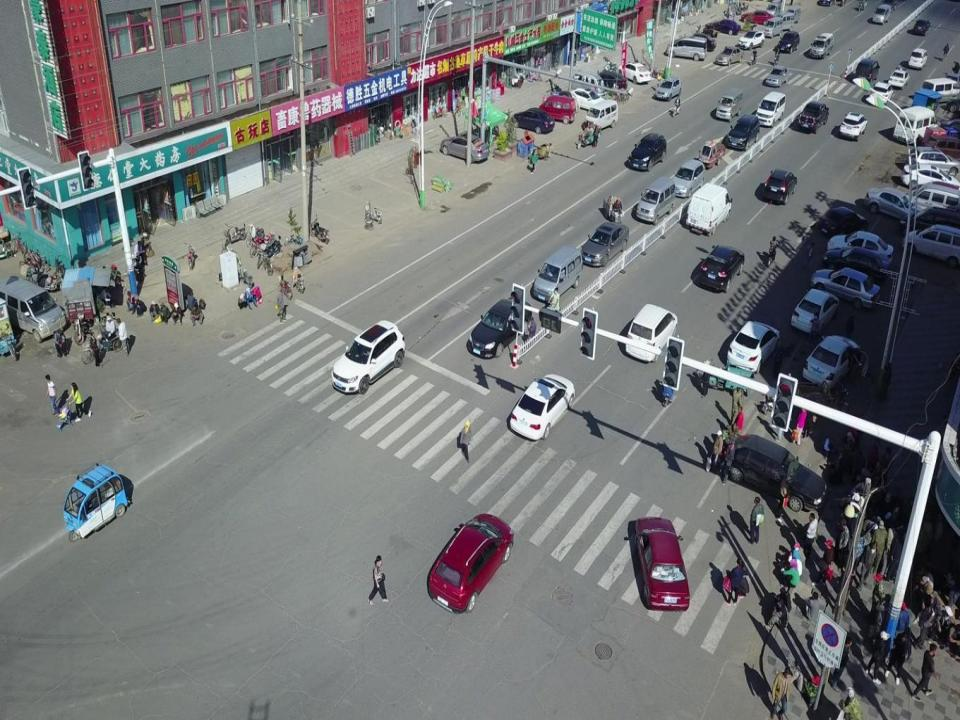bus: (894, 106, 938, 146), (920, 76, 960, 106)
car: (428, 511, 513, 616), (725, 437, 825, 511), (332, 318, 404, 396), (635, 516, 691, 612), (511, 374, 575, 440), (468, 296, 532, 360), (624, 304, 676, 368), (810, 267, 880, 307), (728, 321, 780, 374), (805, 339, 861, 387), (822, 248, 894, 283), (827, 226, 894, 262), (791, 288, 841, 336), (701, 246, 745, 294), (582, 223, 627, 268), (820, 206, 867, 234), (630, 134, 666, 170), (762, 169, 797, 205), (441, 134, 489, 160), (726, 113, 760, 148), (798, 102, 828, 134), (564, 88, 604, 112), (514, 108, 553, 132), (586, 70, 627, 91), (680, 32, 718, 52), (618, 62, 650, 84), (840, 114, 866, 138), (869, 81, 894, 103), (715, 44, 742, 64), (857, 57, 879, 80), (778, 31, 800, 53), (765, 64, 788, 85), (741, 10, 772, 24), (740, 29, 764, 47), (712, 19, 740, 34), (890, 68, 910, 88), (916, 17, 932, 36)
truck: (810, 32, 834, 56)
van: (0, 274, 66, 334), (532, 246, 583, 299), (902, 224, 960, 267), (685, 182, 731, 236), (636, 175, 676, 222), (912, 181, 960, 217), (671, 159, 706, 198), (756, 90, 786, 126), (666, 35, 704, 61), (586, 99, 619, 125), (539, 96, 573, 121), (716, 88, 742, 118), (574, 70, 603, 93), (654, 75, 681, 99), (908, 46, 927, 69), (872, 5, 892, 25), (764, 17, 783, 37), (775, 12, 795, 30), (785, 7, 801, 22), (764, 3, 780, 16)
